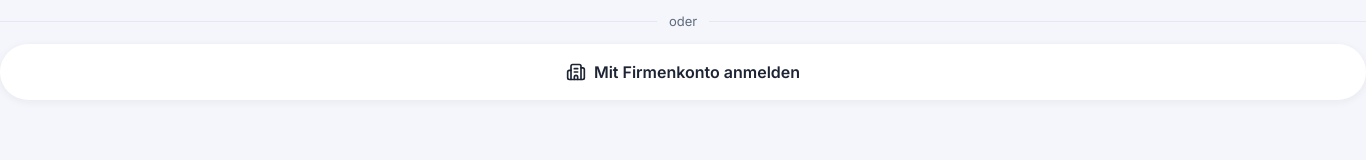
Test: SsoLoginButton › Domain ohne SSO: Hinweis beim Klick
The width and height of the screenshot is (1366, 160).
Click the link "Mit Firmenkonto anmelden". click: (683, 72)
box: [0,44,1365,100]
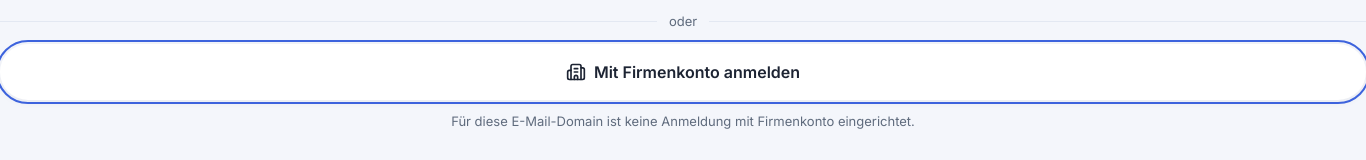
Check: the message shows "keine Anmeldung mit Firmenkonto", box [451,112,915,128]
